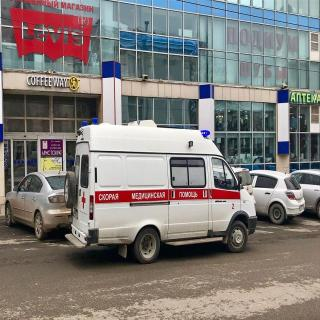Ambulance: (69, 94, 264, 278)
